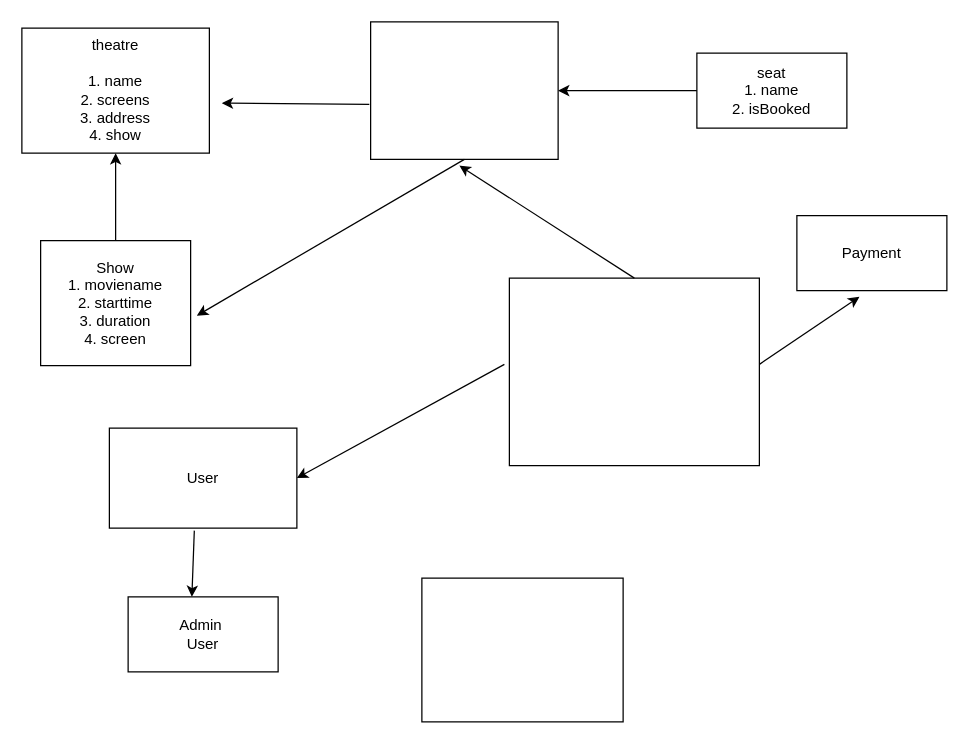
This 969x744 diagram has some shape labels left out. Here are the shapes that lost their labels. From the top down, the centre of each, then its label:
the point at 463,90: Screen 1. seats config 2. available seats 3. book seats 4. release seats
the point at 633,371: UserSession 1. user 2. select seats 3. makepayment 4. close the session
the point at 522,649: Permission Admin -> add theatre, movie, screen, set show User-> select
